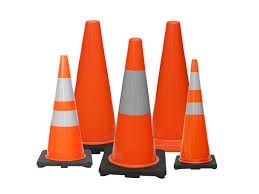cones: (101, 35, 169, 179), (33, 49, 93, 171), (171, 57, 217, 172)
